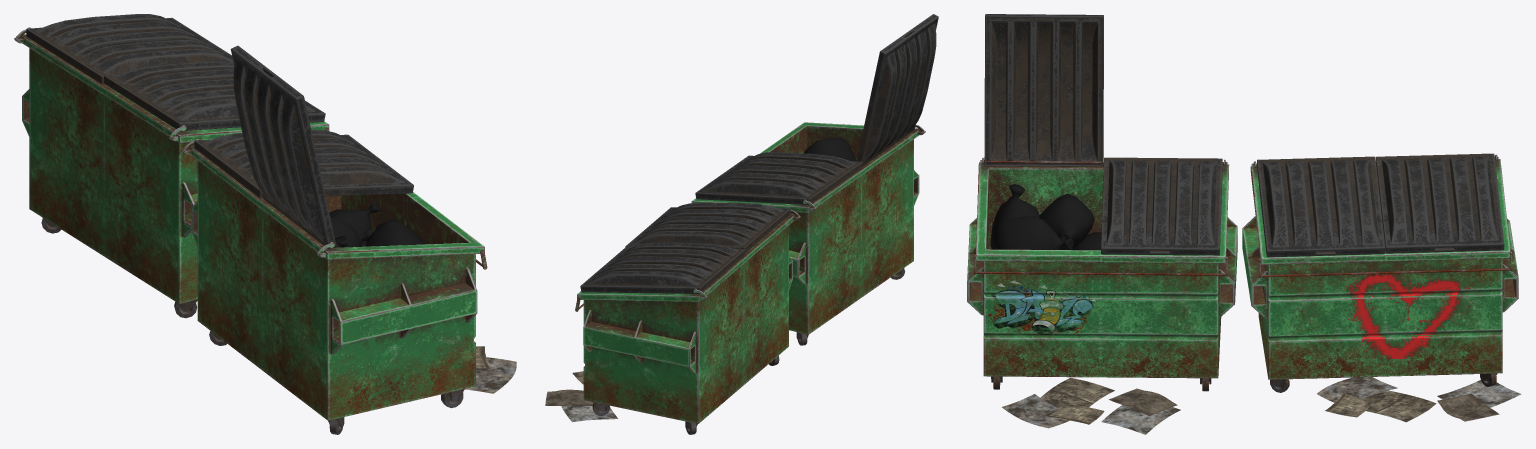
The model's file is dumpsters_draco.glb.
The picture shows the model from 3 angles, left to right: view 1: azimuth 30°, elevation 25°; view 2: azimuth 150°, elevation 25°; view 3: azimuth 270°, elevation 25°; orthographic projection. The views are drawn at different scales.
Visible parts, largest first — view 1: dumpster_open, dumpster_closed, trash_bags, papers; view 2: dumpster_closed, dumpster_open, papers, trash_bags; view 3: dumpster_open, dumpster_closed, papers, trash_bags.
Part boxes in pixels (x1=…): dumpster_open: x1=182, y1=45, x2=487, y2=434; dumpster_closed: x1=14, y1=14, x2=329, y2=318; trash_bags: x1=329, y1=201, x2=424, y2=247; papers: x1=465, y1=346, x2=516, y2=393; dumpster_closed: x1=575, y1=202, x2=800, y2=434; dumpster_open: x1=691, y1=14, x2=938, y2=345; papers: x1=545, y1=371, x2=618, y2=422; trash_bags: x1=804, y1=137, x2=856, y2=161; dumpster_open: x1=967, y1=14, x2=1237, y2=391; dumpster_closed: x1=1242, y1=153, x2=1518, y2=392; papers: x1=1002, y1=377, x2=1521, y2=434; trash_bags: x1=990, y1=184, x2=1101, y2=250.
Size of the model in its own units: 1.96 by 2.42 by 3.96.
Materials: 4 (4 with a texture image).
